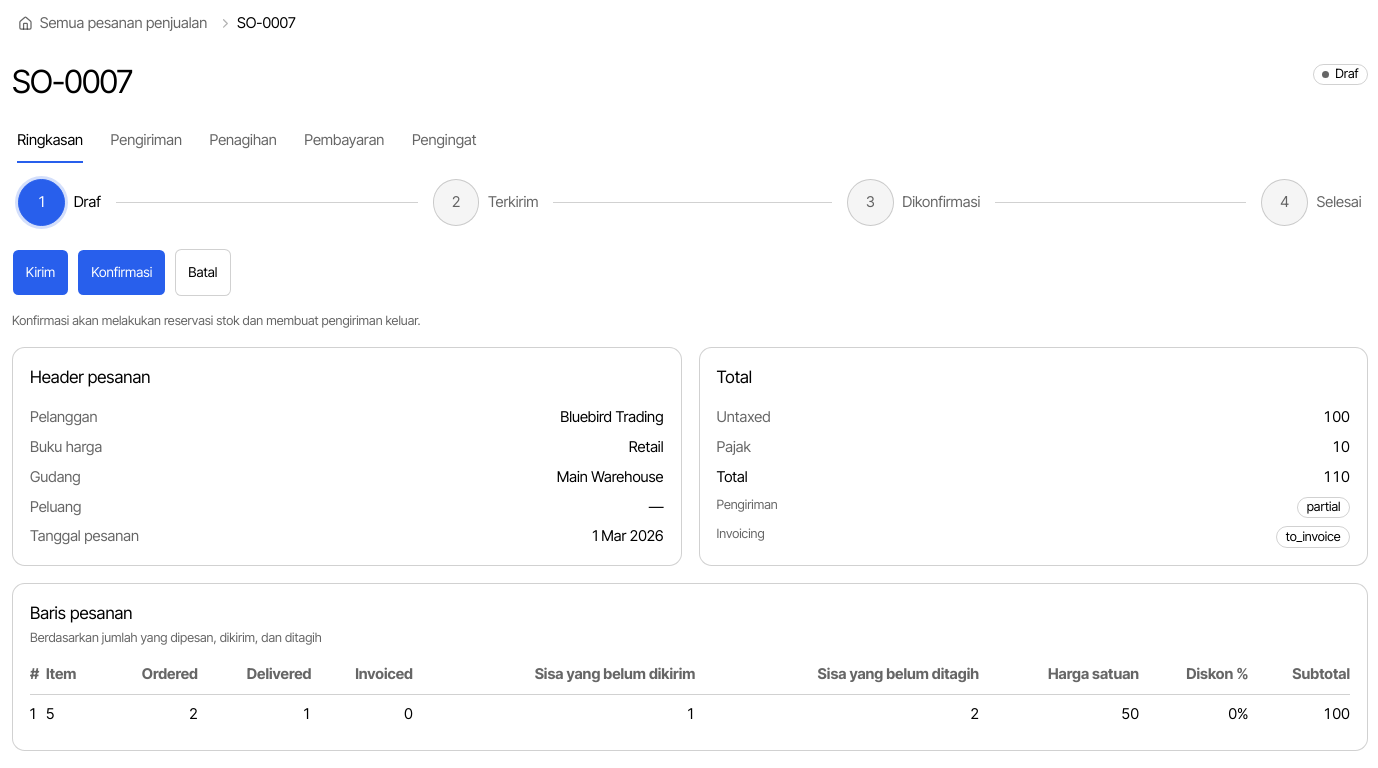
Test: SaleOrderDetail remainder › shows the no-shipment message for draft orders
The image size is (1378, 768).
Click the tab "Pengiriman" at (146, 141), box [110,117,183,164]
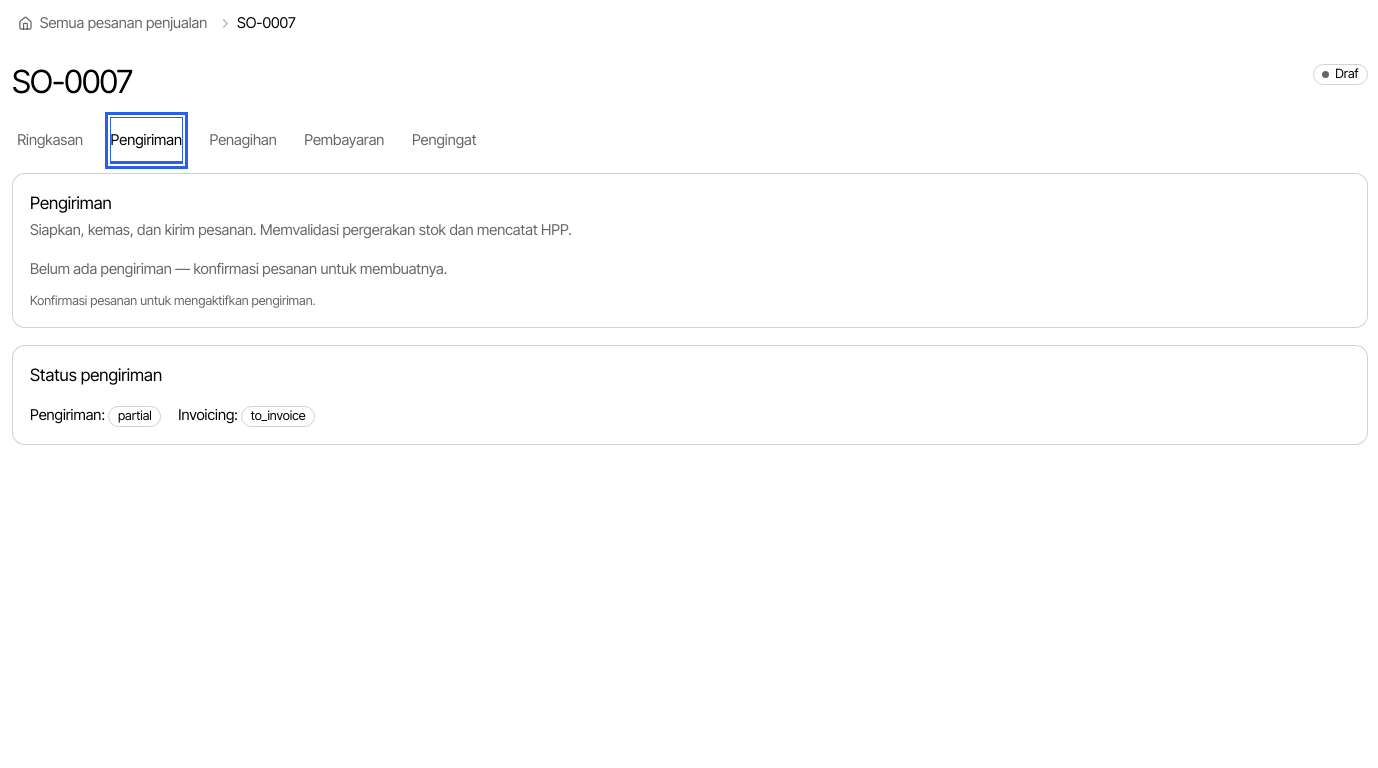
Expected: the text "Belum ada pengiriman — konfirmasi pesanan untuk membuatnya." is shown, [30,260,447,278]
Expected: the text "Konfirmasi pesanan untuk mengaktifkan pengiriman." is shown, [30,293,316,308]
